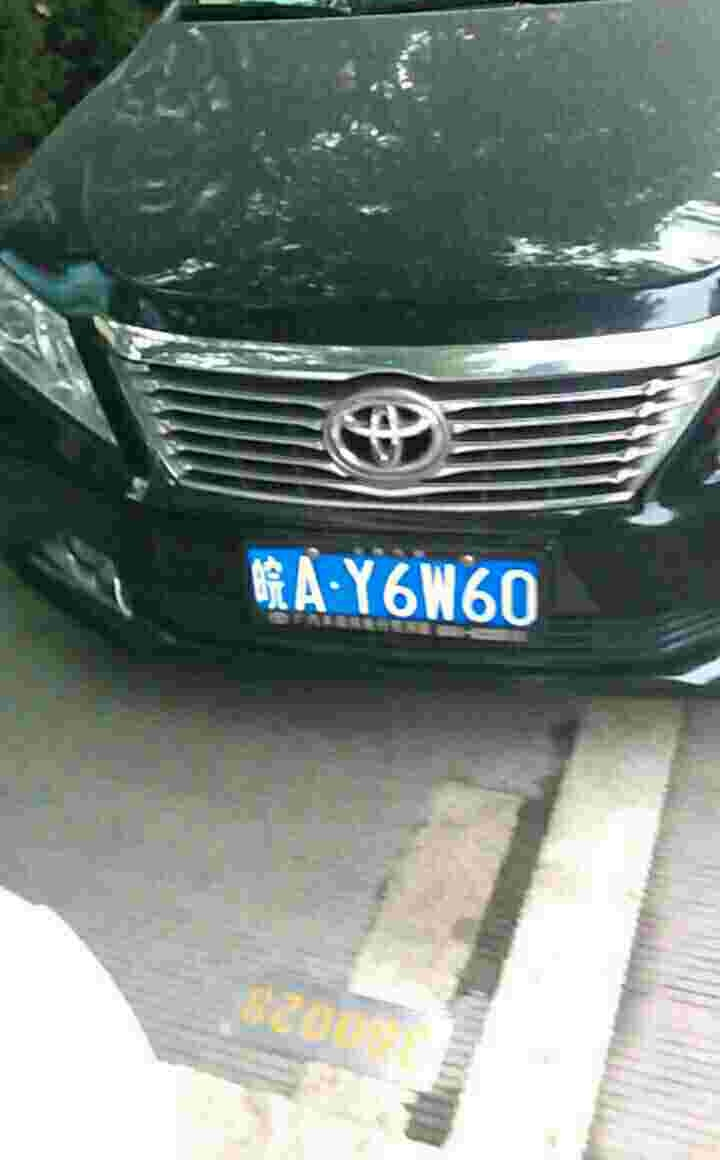license_plate: (248, 544, 537, 629)
